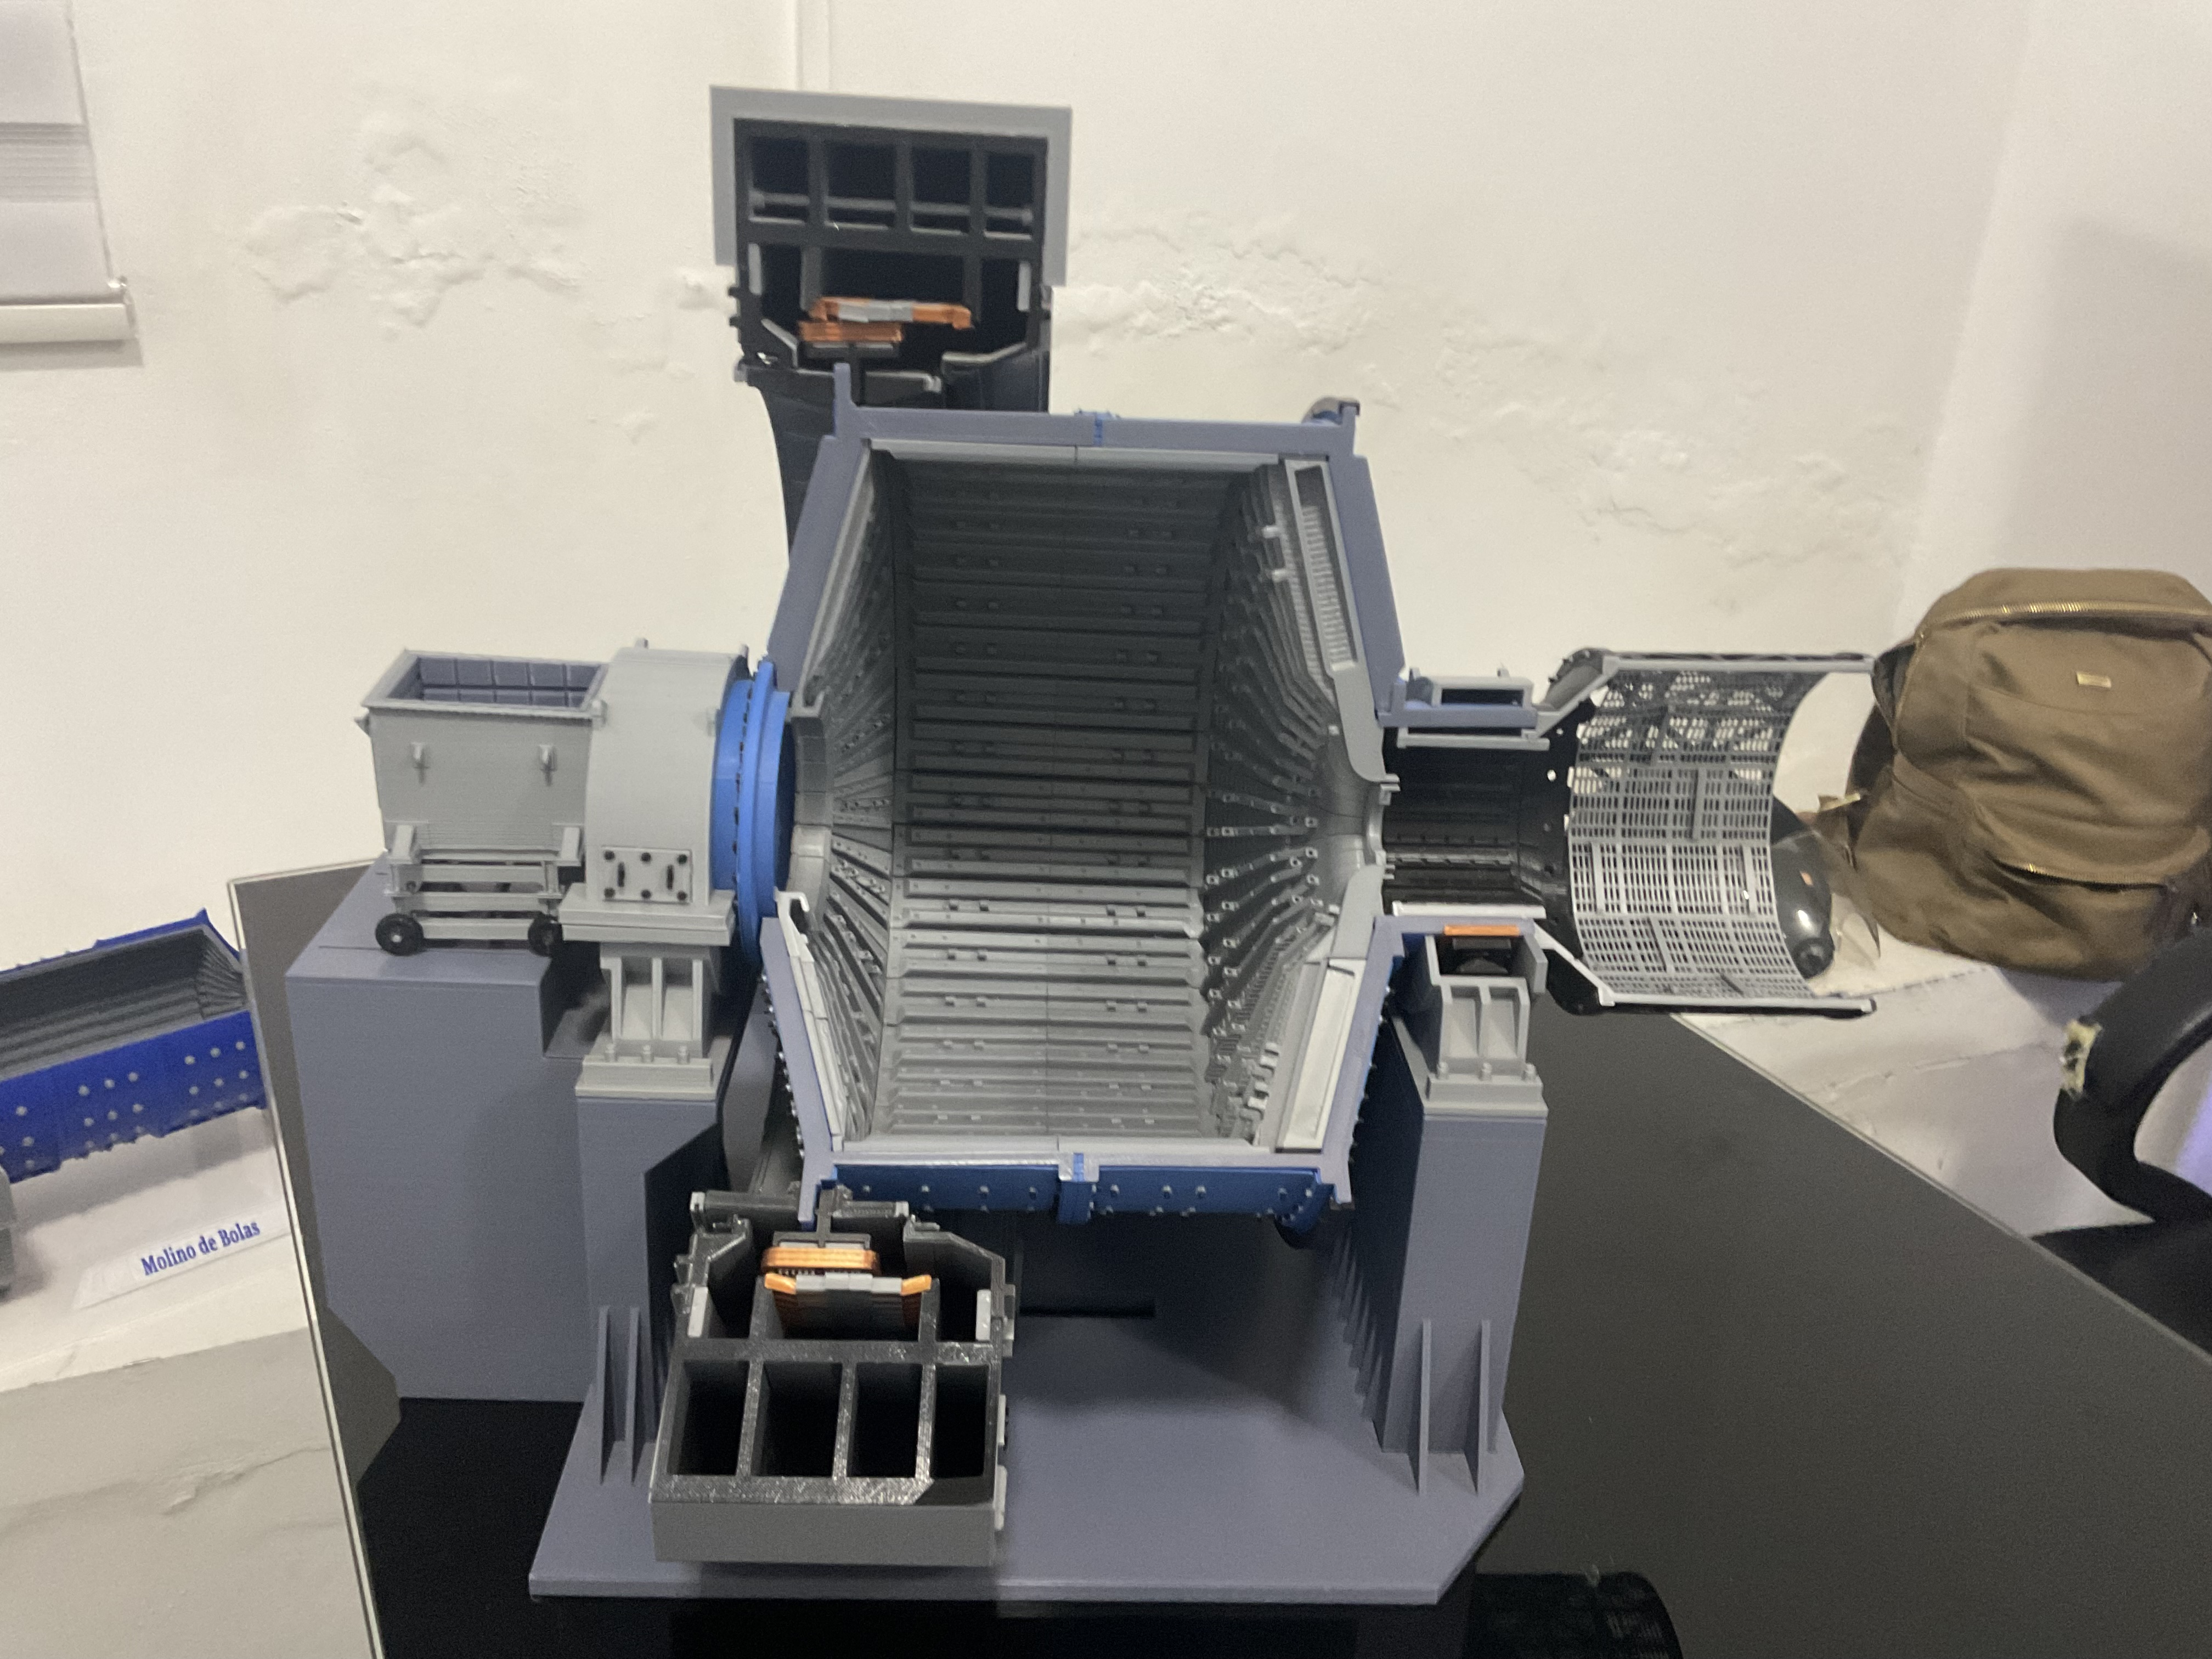LINERS: (852, 441, 1305, 1157)
MOLINOSAG: (284, 87, 1876, 1614)
PERNOS: (840, 1171, 1324, 1229)
